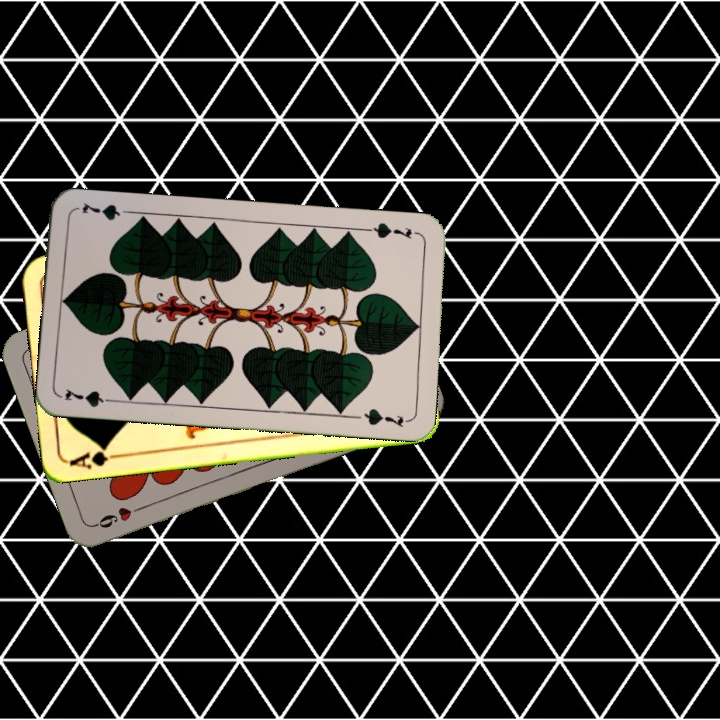G7: (60, 384, 119, 410), (363, 218, 422, 241)
GA: (66, 441, 125, 471)
H9: (90, 502, 147, 531)
